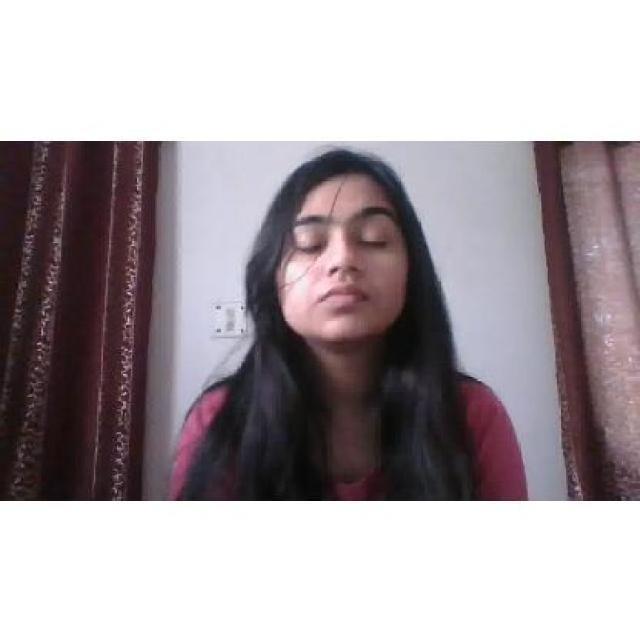inattentif: (268, 149, 408, 343)
